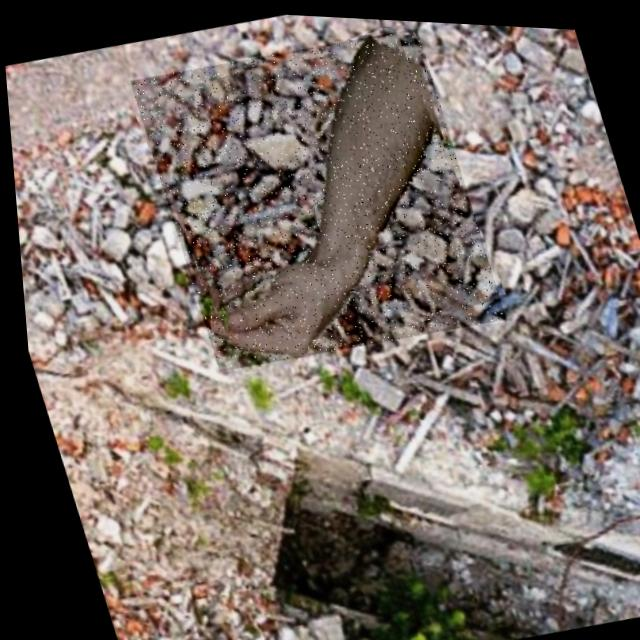Person in Rubble: (123, 11, 505, 381)
